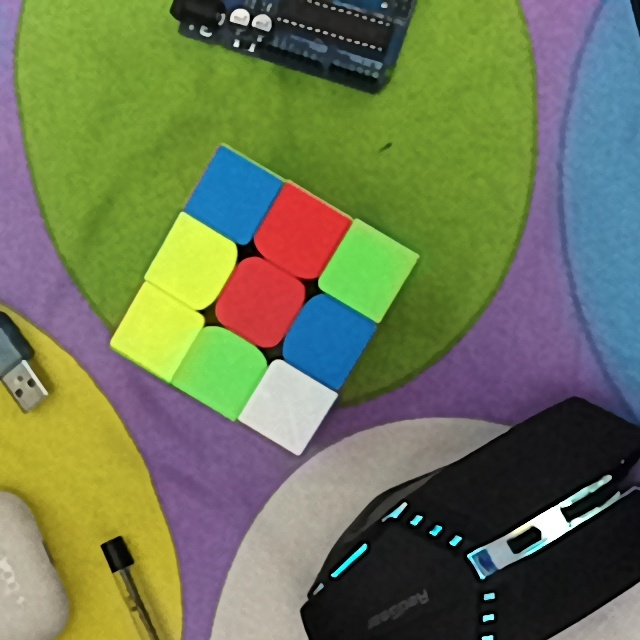tile: (233, 274, 288, 331), (204, 170, 258, 228), (276, 206, 327, 260), (193, 348, 249, 397), (303, 311, 355, 363), (168, 236, 218, 287), (263, 383, 311, 431), (341, 243, 393, 287), (134, 307, 181, 355)
